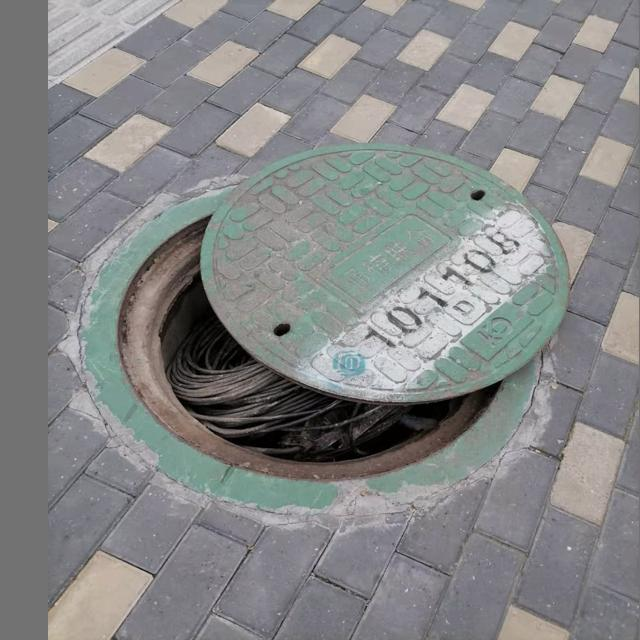uncovered: (81, 144, 573, 515)
